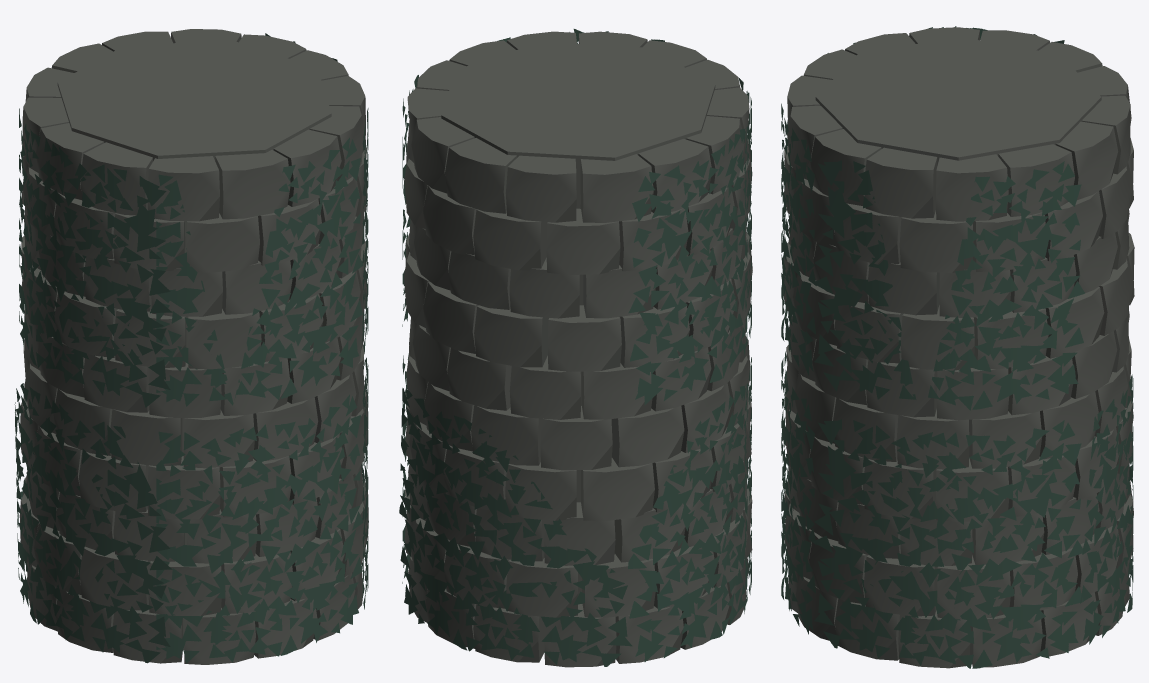
Rendered from StoneTower.fbx.
3 renders of one model, left to right at view 1: azimuth 30°, elevation 25°; view 2: azimuth 150°, elevation 25°; view 3: azimuth 270°, elevation 25°, orthographic.
Visible parts, largest first — view 1: Stone_tower; view 2: Stone_tower; view 3: Stone_tower.
Part boxes in pixels (x1,y1,x2,y2): Stone_tower: (14,29,368,664); Stone_tower: (399,29,752,667); Stone_tower: (781,26,1134,668).
Size of the model in its own units: 2.47 by 3.92 by 2.47.
